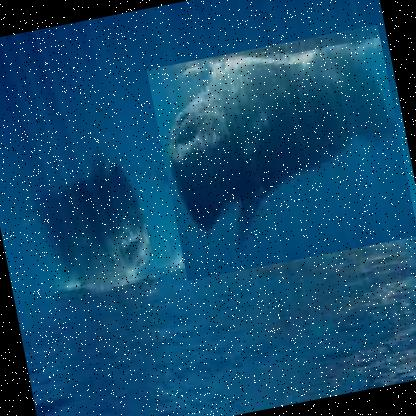sperm_whale: (145, 23, 415, 281)
